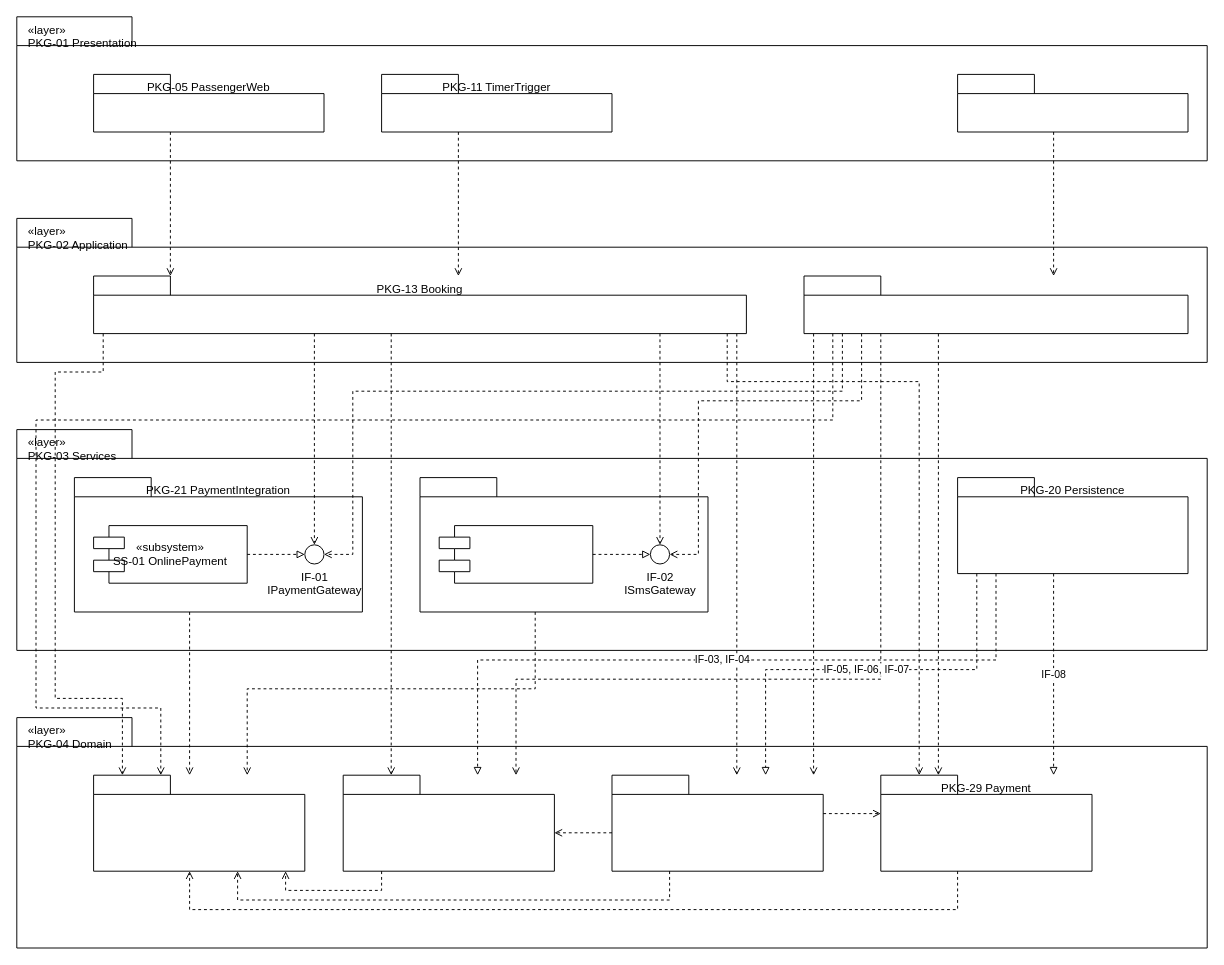
Image size: 1224x965. Some labels were removed from this diagram. Here are the shapes that lost their labels. From the top down, the box of each, then its label:
(957, 73, 1188, 132): PKG-07 DispatchWeb
(803, 275, 1188, 334): PKG-16 TripManagement
(438, 525, 593, 583): «subsystem» SS-02 SmsNotification
(419, 477, 708, 612): PKG-22 SmsIntegration
(93, 774, 305, 871): PKG-31 ValueTypes
(342, 774, 554, 871): PKG-27 Operations
(611, 774, 823, 871): PKG-28 Ticketing
